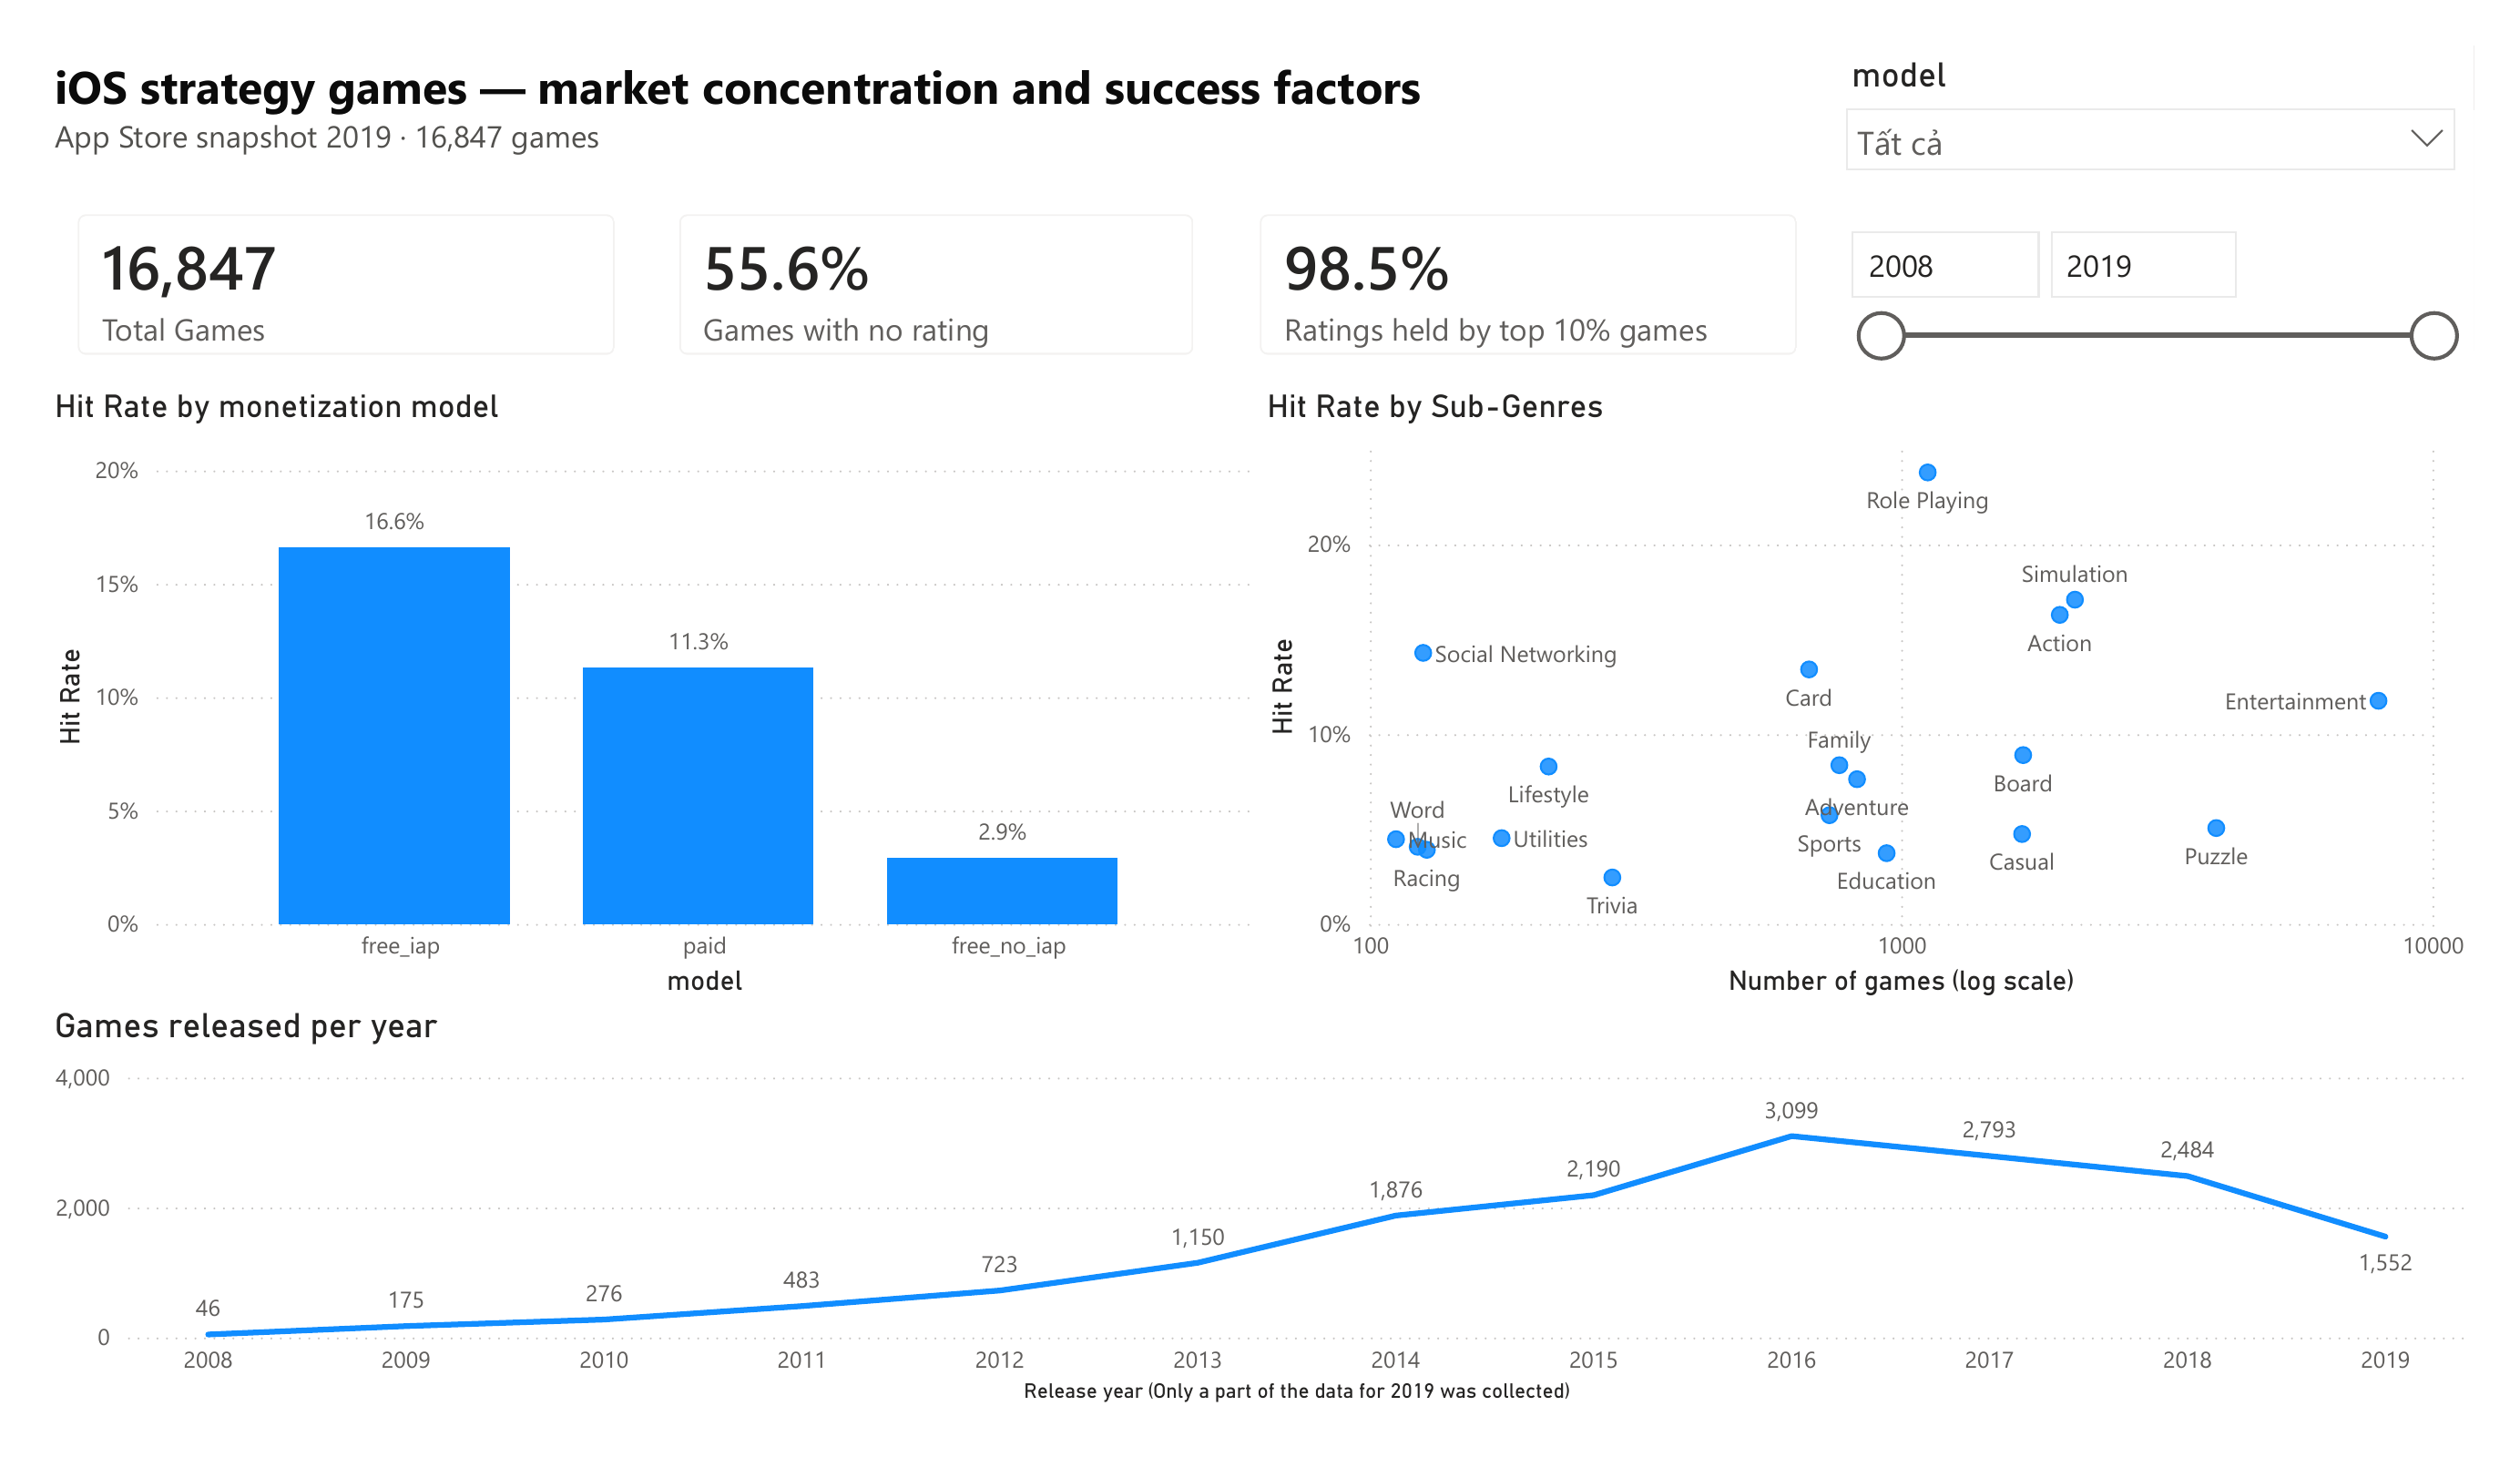

Layout of this report page (visuals, bound fields, positions):
{"tool":"powerbi","page":{"name":"Trang 1","canvas":[1280,720],"ordinal":0},"visuals":[{"type":"textbox","box":[0,0,940.6,71.9],"z":0},{"type":"cardVisual","fields":{"Data":["1Measures.Total Games"]},"box":[0,71.9,317.1,108.6],"z":1000},{"type":"cardVisual","fields":{"Data":["1Measures.Pct No Rating"]},"box":[317.2,71.9,305.7,108.6],"z":2000},{"type":"cardVisual","fields":{"Data":["1Measures.Pct Ratings Top 10"]},"box":[623.4,71.9,317.1,108.6],"z":3000},{"type":"clusteredColumnChart","title":"Hit Rate by monetization model","fields":{"Category":["game_clean.model"],"Y":["1Measures.Hit Rate"]},"box":[0,179.7,640.6,326.6],"z":4000},{"type":"lineChart","title":"Games released per year","fields":{"Category":["game_clean.release_year"],"Y":["1Measures.Total Games"]},"box":[0,506.2,1279.7,214.1],"z":5000},{"type":"slicer","fields":{"Values":["game_clean.model"]},"box":[939.1,0,340.6,87.5],"z":6000},{"type":"slicer","fields":{"Values":["game_clean.release_year"]},"box":[939.1,87.5,340.6,87.5],"z":7000},{"type":"scatterChart","title":"Hit Rate by Sub-Genres","fields":{"Category":["genres.Genres"],"X":["1Measures.Genre"],"Y":["1Measures.Genre Hit Rate"]},"box":[639.1,179.7,640.6,326.6],"z":8000}]}

Visuals, with their boxes on the page's 1280x720 design canvas (x1, y1, x2, y2). These are canvas units, not pixel positions in the 2520x1457 screenshot, which may show the page scaled, cropped or inside an application window:
textbox: {"x1": 0, "y1": 0, "x2": 941, "y2": 72}
cardVisual - 1Measures.Total Games: {"x1": 0, "y1": 72, "x2": 317, "y2": 180}
cardVisual - 1Measures.Pct No Rating: {"x1": 317, "y1": 72, "x2": 623, "y2": 180}
cardVisual - 1Measures.Pct Ratings Top 10: {"x1": 623, "y1": 72, "x2": 940, "y2": 180}
"Hit Rate by monetization model" clusteredColumnChart: {"x1": 0, "y1": 180, "x2": 641, "y2": 506}
"Games released per year" lineChart: {"x1": 0, "y1": 506, "x2": 1280, "y2": 720}
slicer - game_clean.model: {"x1": 939, "y1": 0, "x2": 1280, "y2": 88}
slicer - game_clean.release_year: {"x1": 939, "y1": 88, "x2": 1280, "y2": 175}
"Hit Rate by Sub-Genres" scatterChart: {"x1": 639, "y1": 180, "x2": 1280, "y2": 506}
